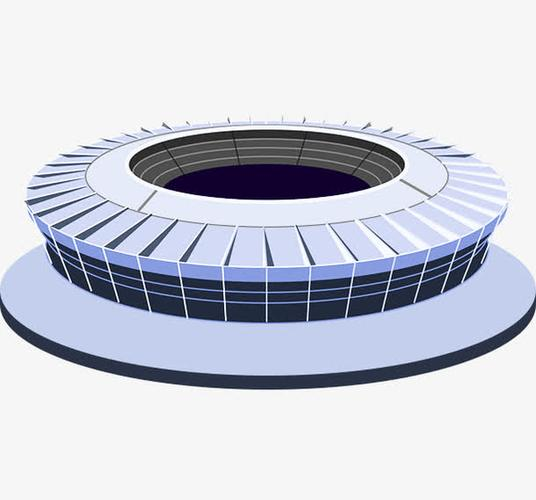buildings: (23, 134, 503, 357), (76, 128, 440, 238)
